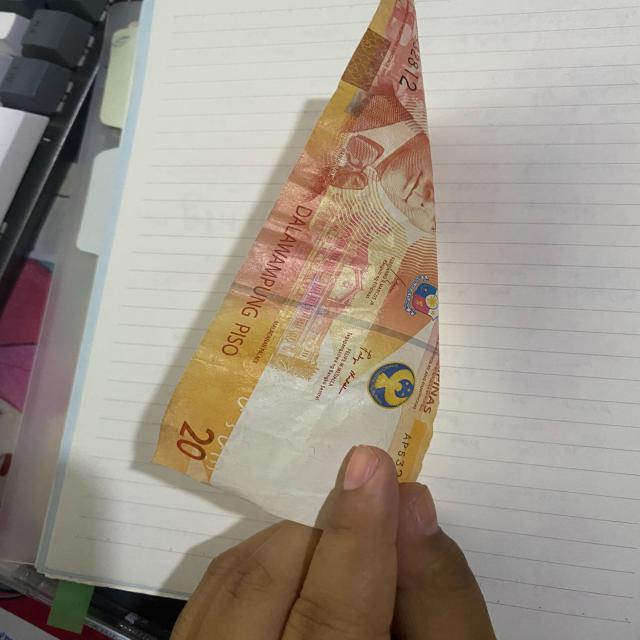security_thread: (225, 275, 441, 364)
see_through_mark: (192, 385, 271, 489)
serial_number: (389, 21, 426, 94)
